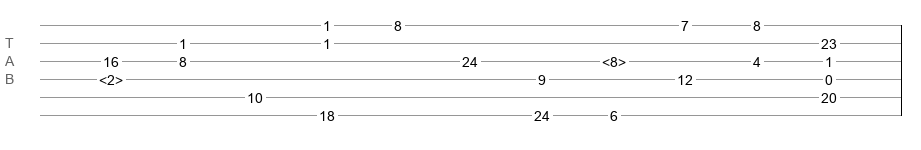0: (825, 72, 833, 82)
1: (179, 36, 187, 46), (323, 18, 331, 28), (323, 36, 331, 46), (825, 54, 833, 64)
10: (247, 90, 263, 100)
12: (677, 72, 693, 82)
16: (103, 54, 119, 64)
18: (319, 108, 335, 118)
20: (821, 90, 837, 100)
23: (821, 36, 837, 46)
24: (462, 54, 478, 64), (534, 108, 550, 118)
4: (753, 54, 761, 64)
6: (610, 108, 618, 118)
7: (681, 18, 689, 28)
8: (179, 54, 187, 64), (394, 18, 402, 28), (753, 18, 761, 28)
9: (538, 72, 546, 82)
harmonic: (99, 72, 123, 82), (602, 54, 626, 64)
